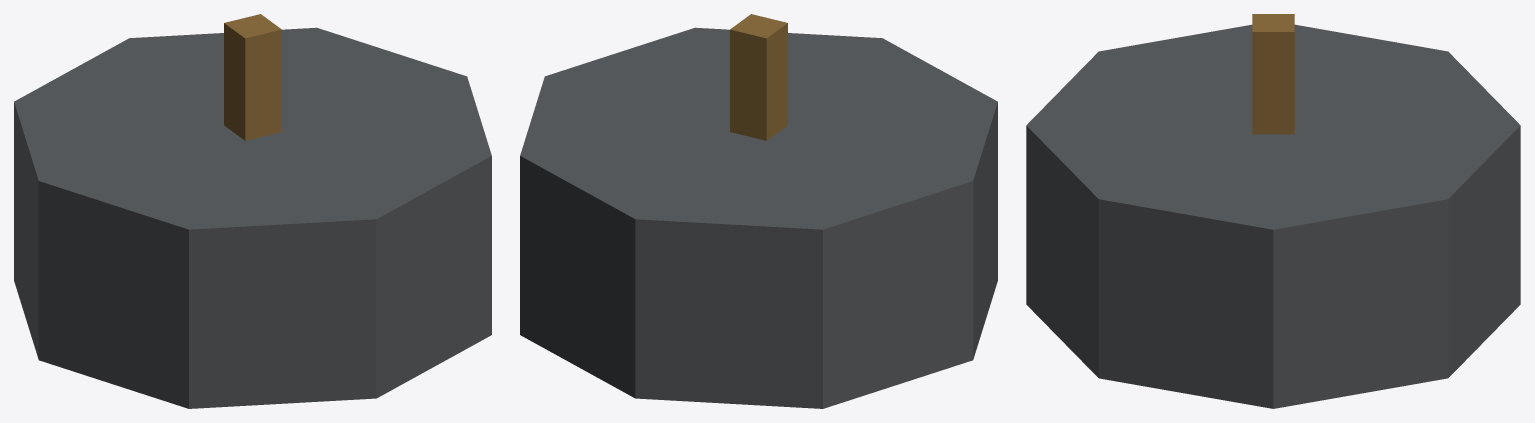
File: cistern_basin.obj
The picture shows the model from 3 angles, left to right: view 1: azimuth 30°, elevation 25°; view 2: azimuth 150°, elevation 25°; view 3: azimuth 270°, elevation 25°; orthographic projection.
Parts seen in each view (by area): view 1: cistern_basin; view 2: cistern_basin; view 3: cistern_basin.
Part boxes in pixels (<box>): cistern_basin: <box>14,14,491,408</box>; cistern_basin: <box>520,14,997,408</box>; cistern_basin: <box>1026,14,1520,408</box>.
Bounding box in the file's own units: 0.7 × 0.44 × 0.7.
